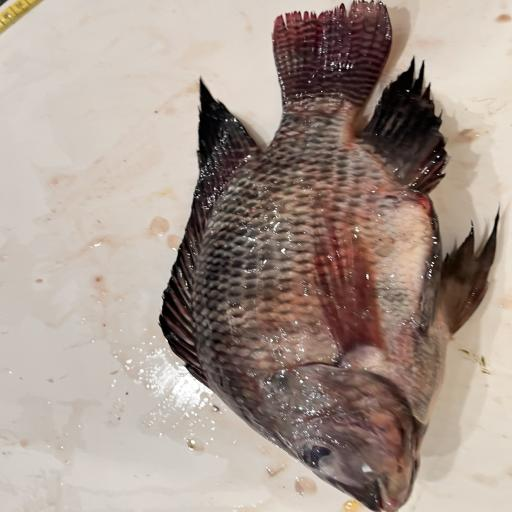Tilapia: (159, 0, 501, 512)
